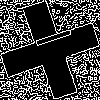I: (25, 25, 73, 54)
